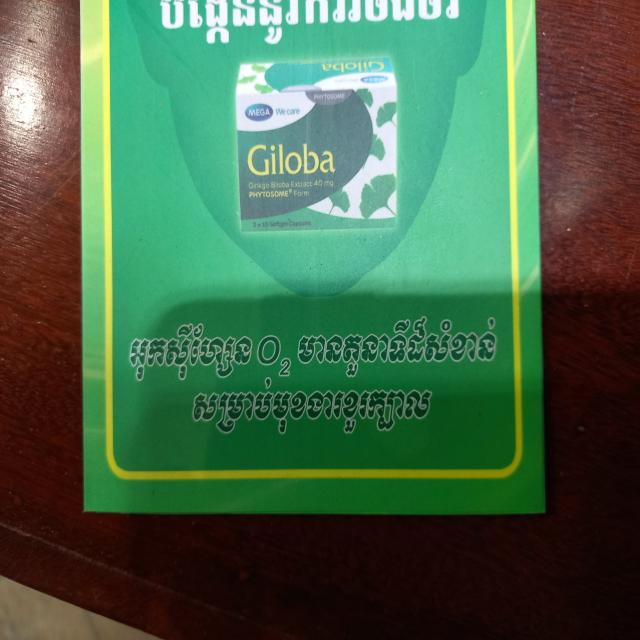894: (189, 378, 438, 437), (128, 318, 257, 383)
Yolov11_80vkh: (295, 313, 502, 378)
